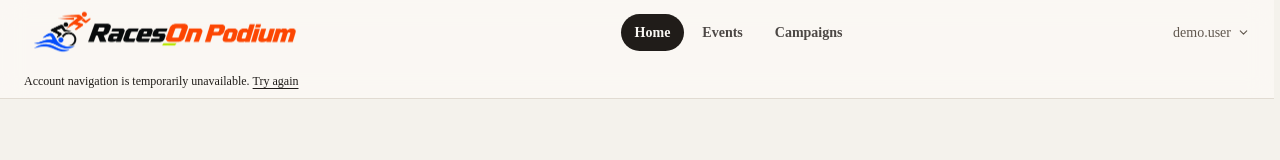
Test: fails closed on ownership lookup failure and retries
Expected: the message shows "Account navigation is temporarily unavailable", [24,74,250,88]
What coordinates should you click on to do the following:
click the button "Try again"
I would click on:
 (276, 81)
Its box is [253,72,298,90].
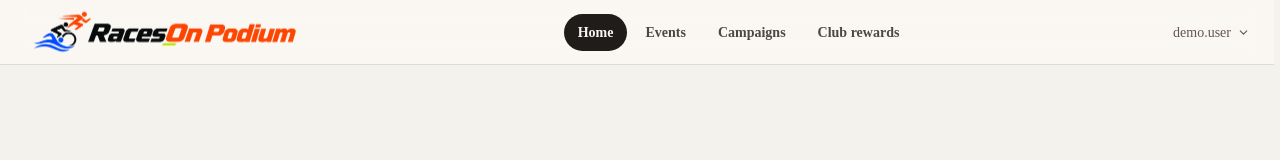
Expected: the link "Club rewards" is shown, [818,24,899,40]
